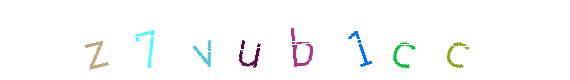1: (321, 0, 401, 80)
7: (155, 0, 235, 80)
B: (257, 0, 337, 80)
C: (361, 0, 441, 80), (415, 0, 495, 80)
U: (245, 0, 325, 80)
V: (209, 0, 289, 80)
Z: (140, 0, 220, 80)
